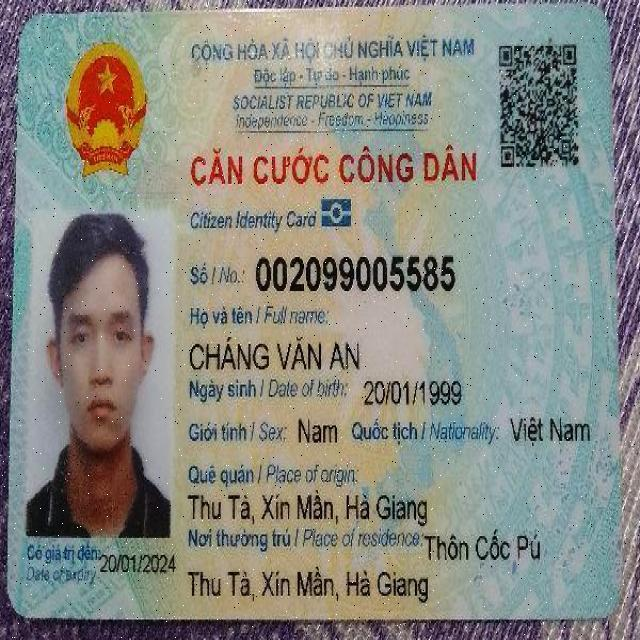current_place: (185, 565, 430, 606), (425, 531, 543, 565)
dob: (359, 378, 463, 407)
expire_date: (99, 546, 178, 579)
gender: (296, 406, 341, 445)
id: (252, 248, 459, 299)
name: (186, 329, 364, 377)
nationality: (505, 407, 593, 449)
origin_place: (185, 489, 428, 530)
